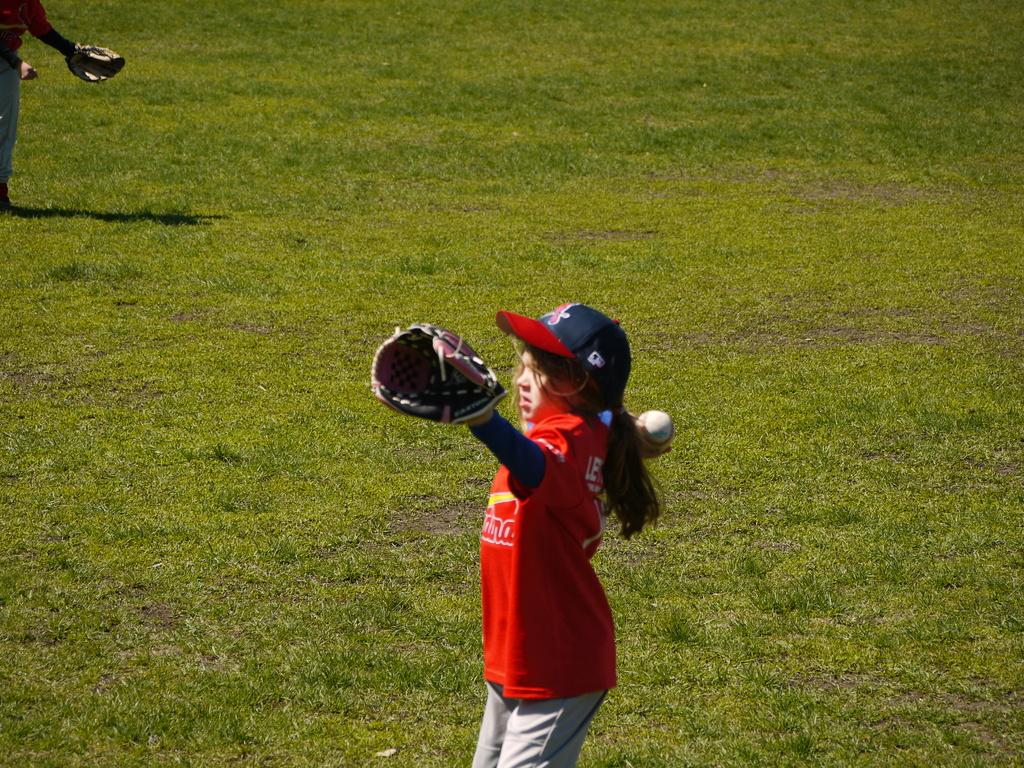Hat: (494, 302, 632, 399)
